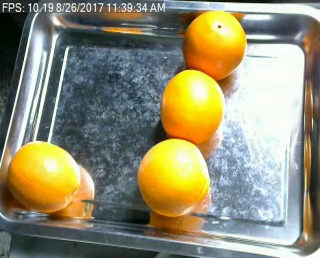Orange: (138, 138, 209, 216), (6, 140, 79, 212), (159, 69, 225, 144), (182, 12, 246, 81)
